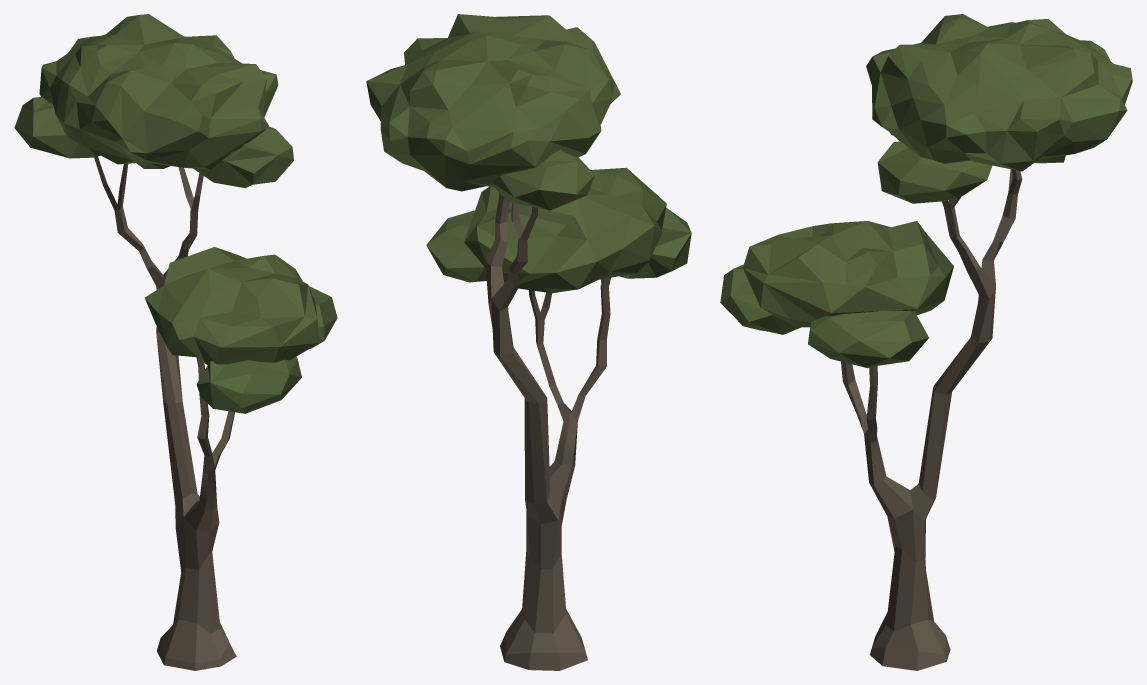
File: Tree_1.gltf
3 renders of one model, left to right at view 1: azimuth 30°, elevation 25°; view 2: azimuth 150°, elevation 25°; view 3: azimuth 270°, elevation 25°, orthographic. The views are drawn at different scales.
Parts seen in each view (by area): view 1: Tree_01; view 2: Tree_01; view 3: Tree_01.
Part boxes in pixels (x1=…): Tree_01: x1=14, y1=14, x2=337, y2=670; Tree_01: x1=366, y1=14, x2=691, y2=670; Tree_01: x1=720, y1=14, x2=1132, y2=670.
Size of the model in its own units: 0.5525 by 1.39 by 0.8417.
1 material, 1 textured.
